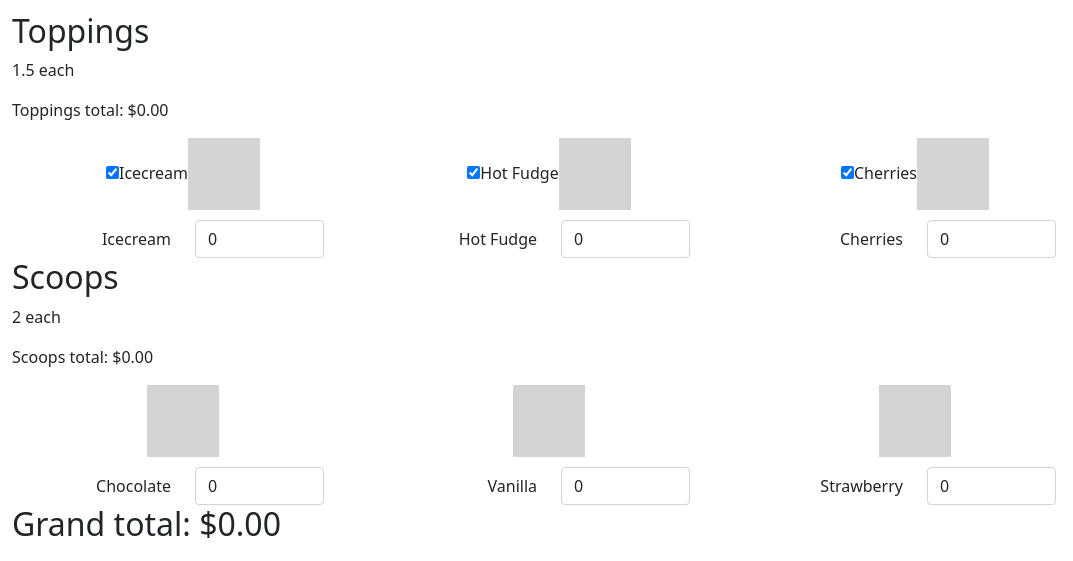
grand total › grand total updates properly if topping is added first
Replace the text in the number field labelled "Icecream" with "2" at [259, 239], box [195, 220, 324, 258]
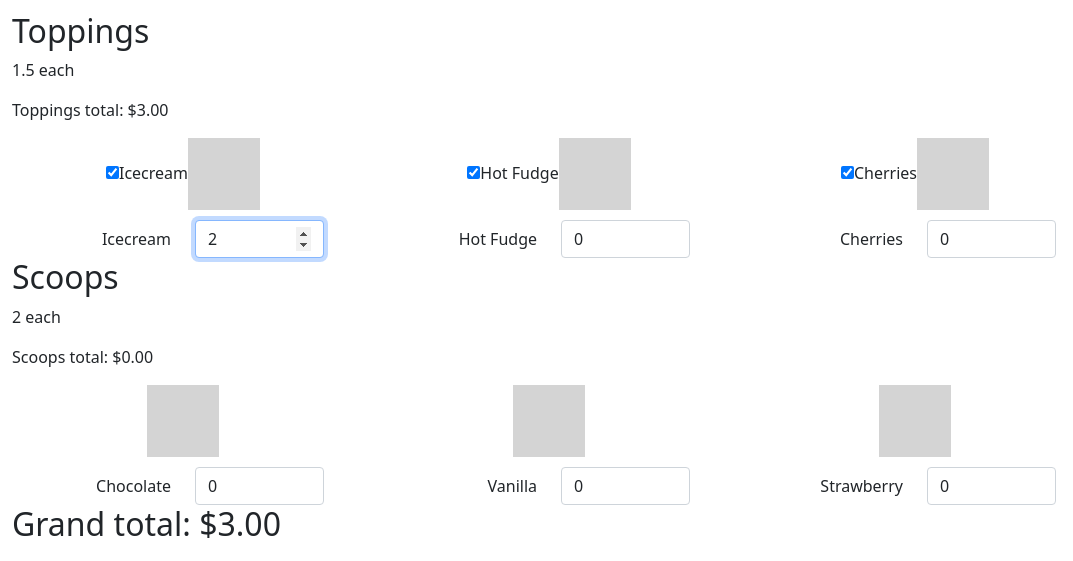
Expected: the heading "Grand total: $3.00" is shown, [12, 502, 281, 545]
